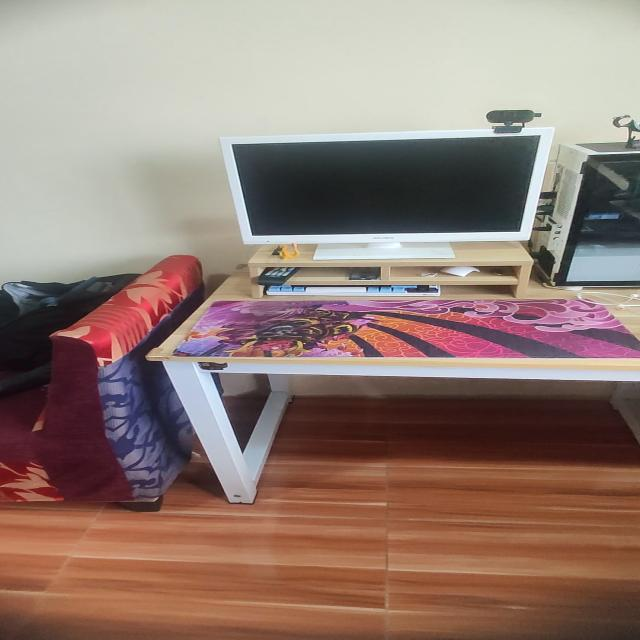table: (154, 268, 640, 507)
